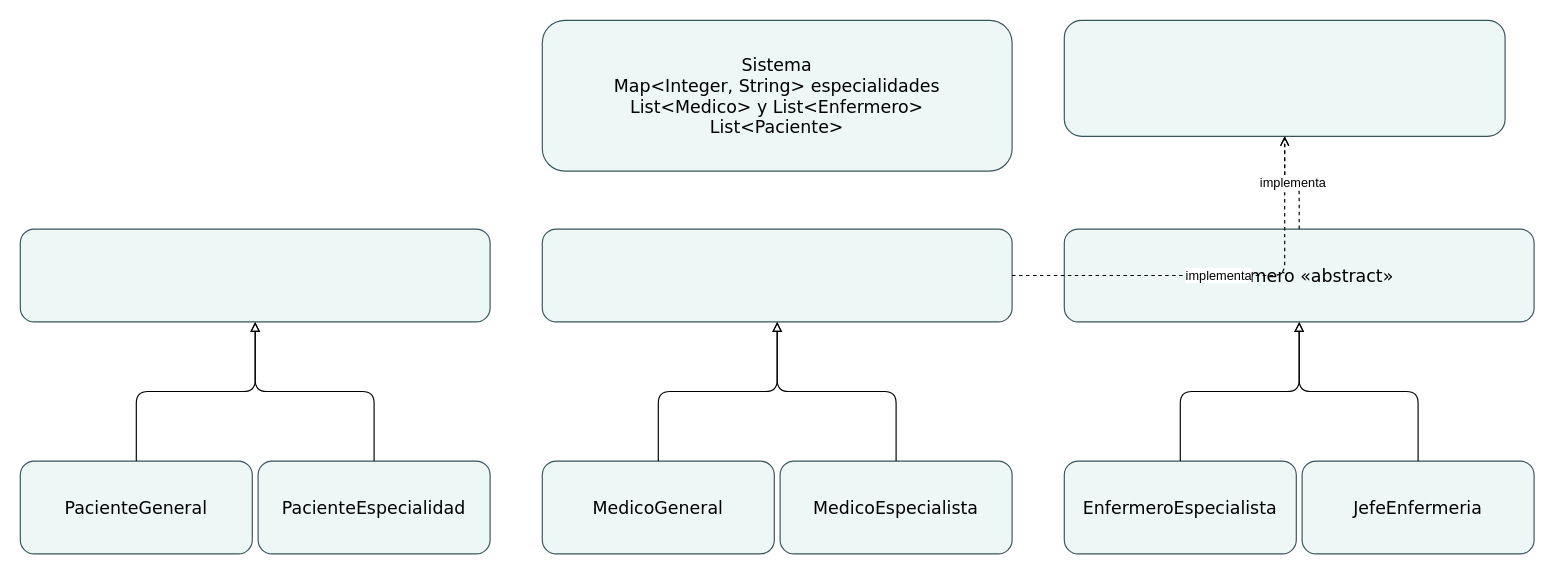
Some shapes in this 1554 by 574 pixel diagram are drawn without their labels. The shapes that lost their labels are listed below. From the top down, each one's centre as x and y in pixels, then its label:
At pixel 1284 77: "AtencionMedica «interface» darTratamiento(Paciente): boolean".
At pixel 254 275: "Paciente «abstract»".
At pixel 776 275: "Medico «abstract»".
